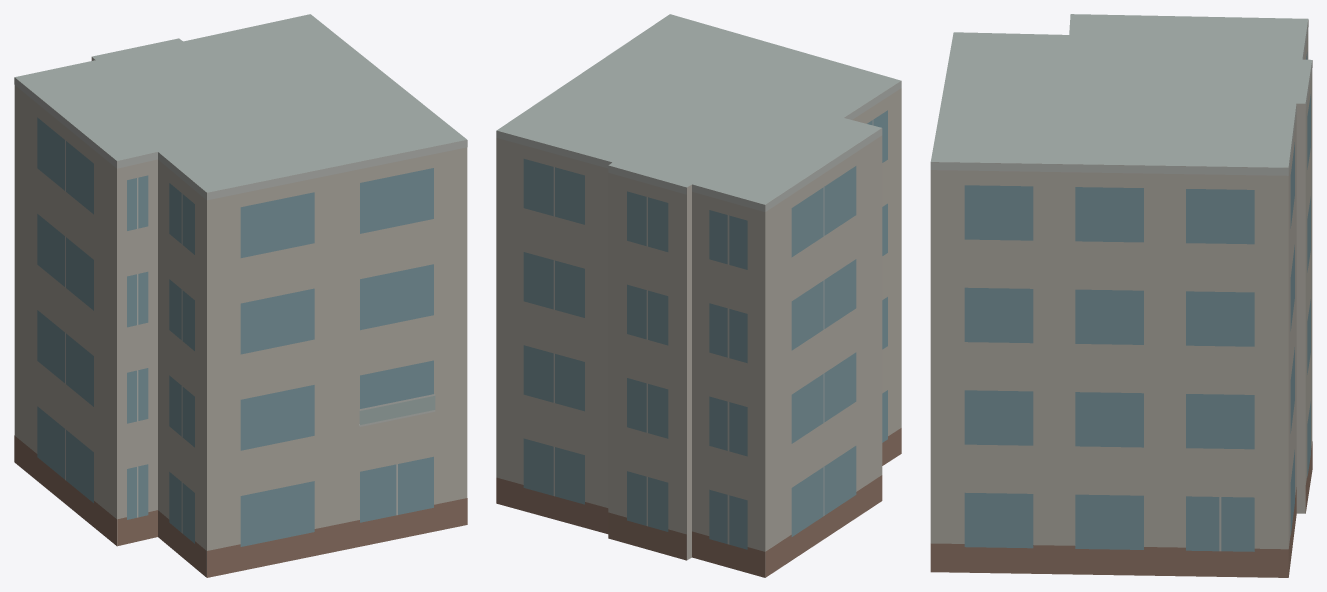
File: survey-upis-32803803.glb
3 views of the same model, side by side, from view 1: azimuth 30°, elevation 25°; view 2: azimuth 150°, elevation 25°; view 3: azimuth 270°, elevation 25° (orthographic). The views are drawn at different scales.
Visible parts, largest first — view 1: survey-upis-32803803.tmp; view 2: survey-upis-32803803.tmp; view 3: survey-upis-32803803.tmp.
Part boxes in pixels (<box>): survey-upis-32803803.tmp: <box>14,14,467,577</box>; survey-upis-32803803.tmp: <box>496,14,901,577</box>; survey-upis-32803803.tmp: <box>930,14,1312,577</box>.
Bounding box in the file's own units: 9.98 × 12.4 × 10.47.
